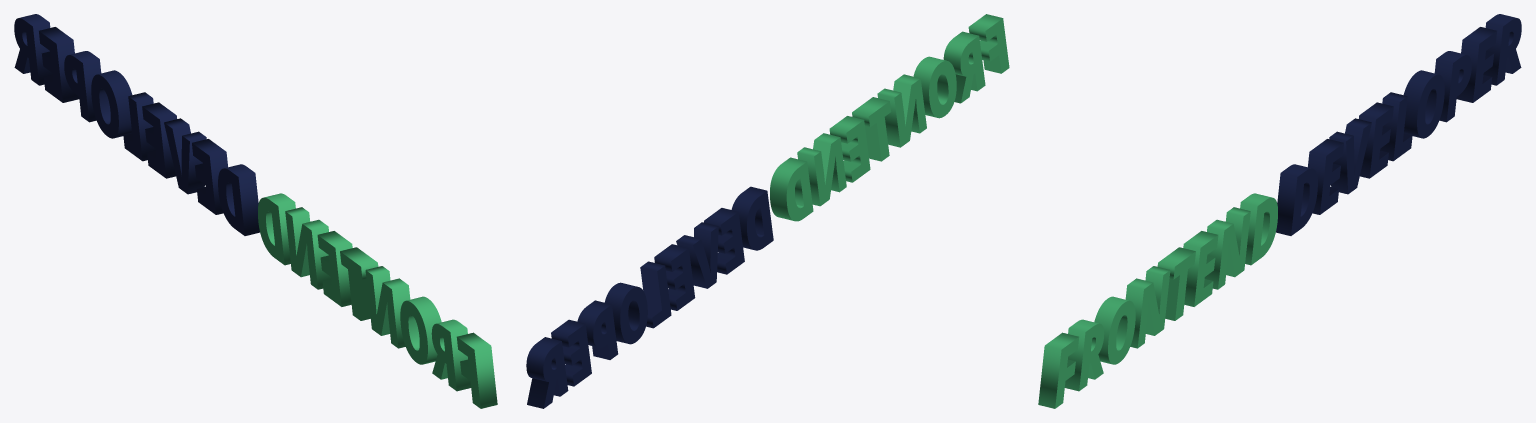
The model's file is frontend.glb.
The picture shows the model from 3 angles, left to right: view 1: azimuth 30°, elevation 25°; view 2: azimuth 150°, elevation 25°; view 3: azimuth 330°, elevation 25°; orthographic projection.
Parts seen in each view (by area): view 1: frontend; view 2: frontend; view 3: frontend.
Part boxes in pixels (box(x1,y1,x2,y2)): frontend: box(14, 14, 497, 408); frontend: box(526, 14, 1009, 408); frontend: box(1038, 14, 1521, 408).
Size of the model in its own units: 0.16 by 0.5097 by 7.67.
